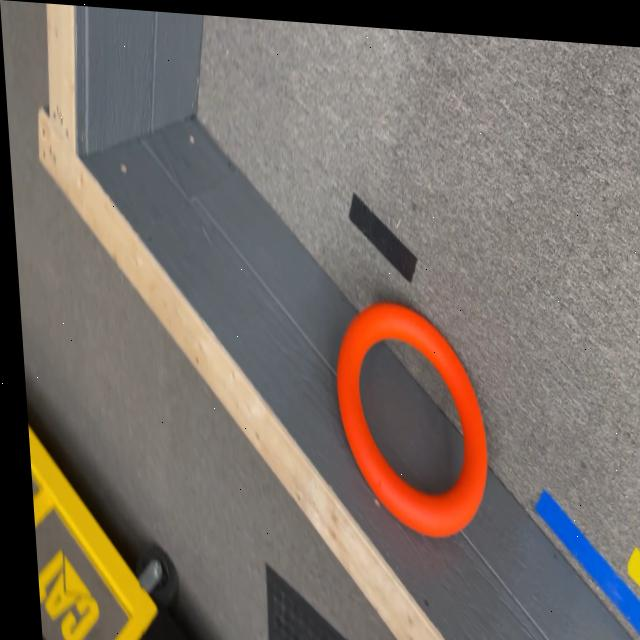note: (327, 291, 485, 533)
